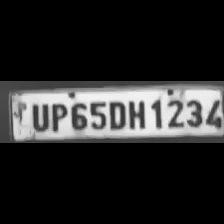1: (148, 97, 164, 129)
2: (164, 96, 184, 128)
3: (183, 96, 203, 128)
4: (204, 95, 222, 127)
5: (88, 98, 106, 130)
6: (68, 100, 86, 132)
D: (106, 98, 126, 130)
H: (127, 97, 147, 130)
P: (48, 100, 68, 132)
U: (27, 100, 49, 132)
